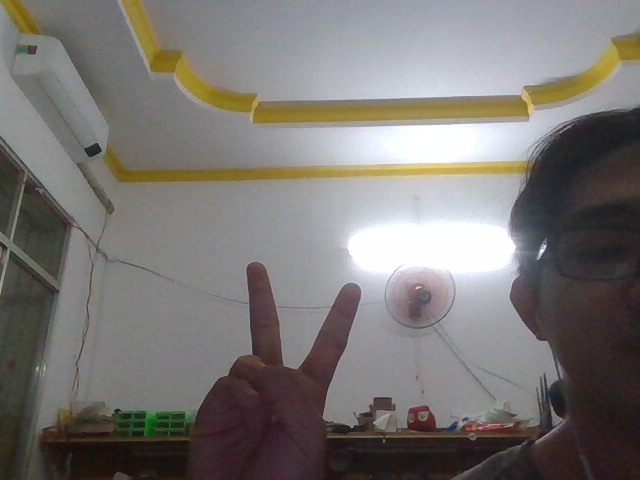hello: (166, 243, 372, 480)
